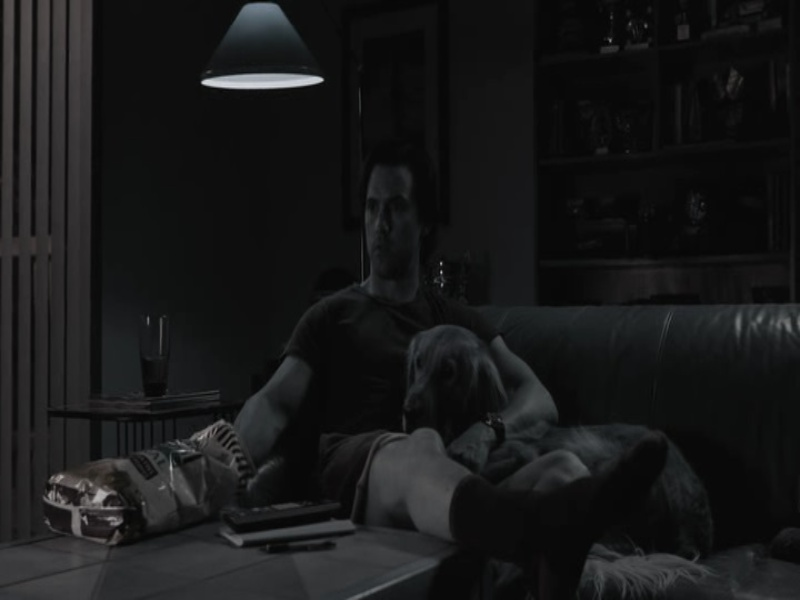TsisyArotava: (351, 152, 427, 291)
